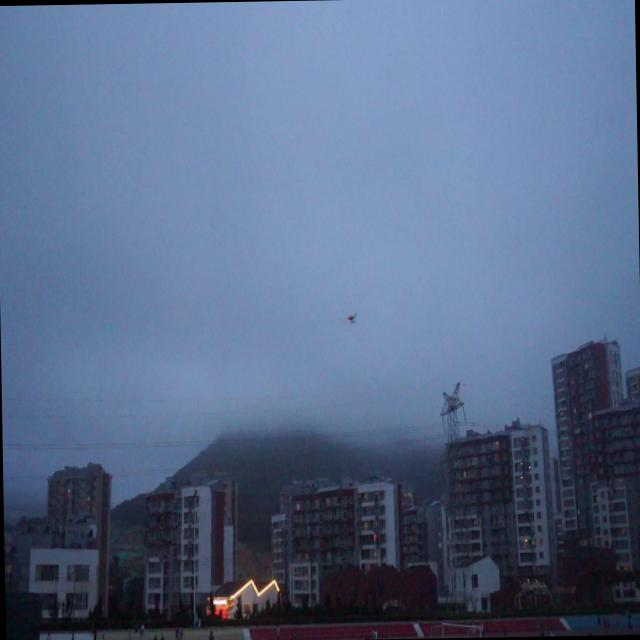drone: (344, 310, 357, 328)
